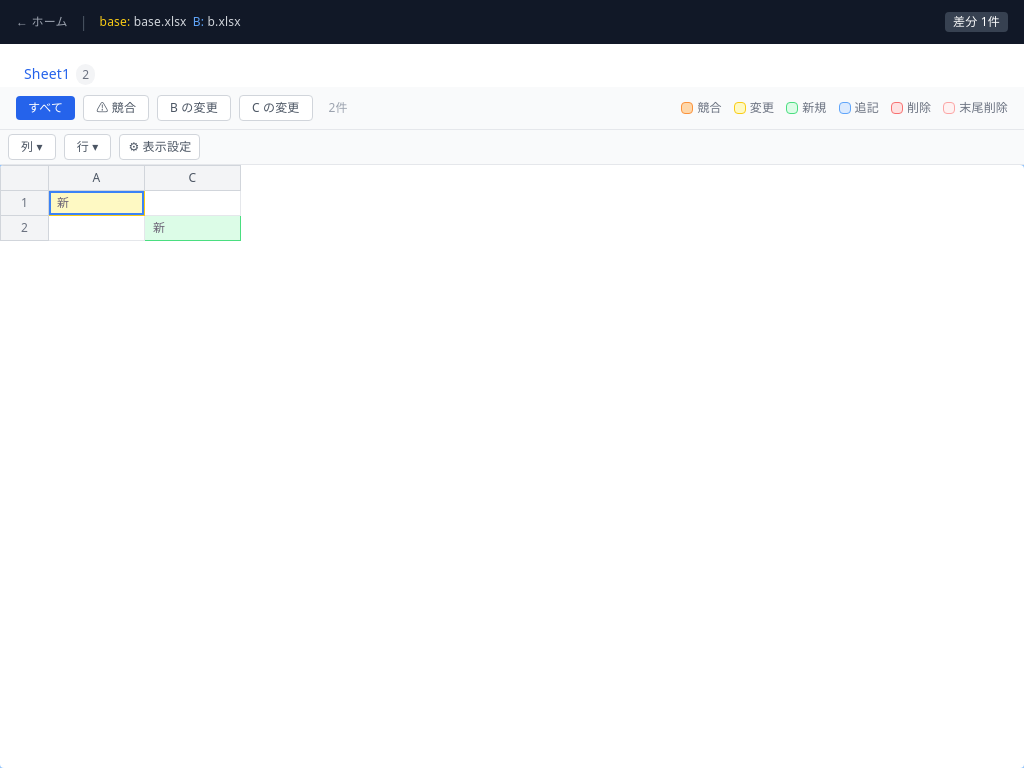
Test: B-031: 列・行フィルタ › 「列 ▾」をクリックするとドロップダウンが開き差分のある列が表示される
Click the button "列 ▾": (32, 147) [8, 134, 56, 160]
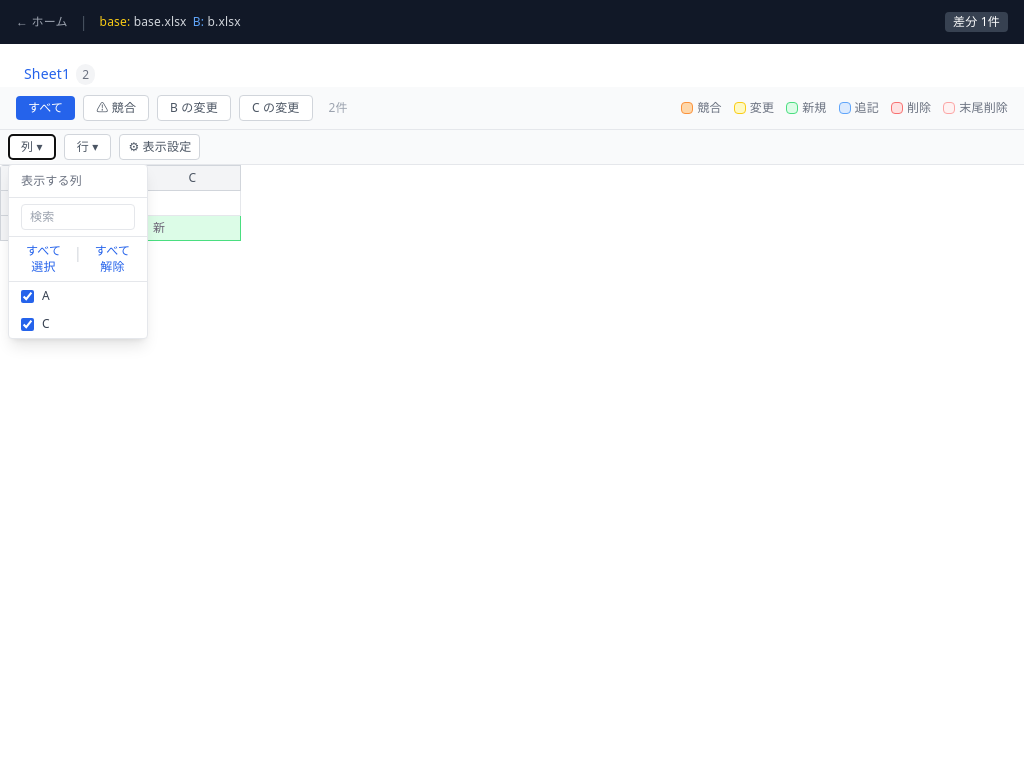
Check: the checkbox labelled "A" is shown, box [21, 290, 34, 302]
Check: the checkbox labelled "C" is shown, box [21, 318, 34, 330]
